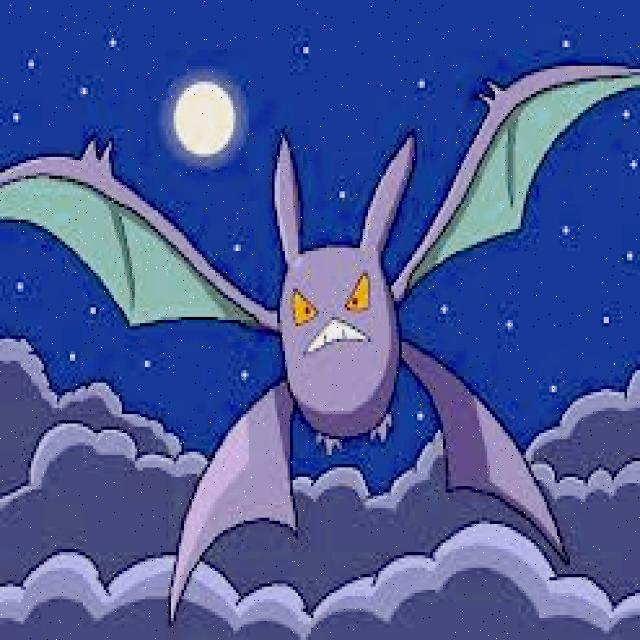crobat: (5, 65, 640, 582)
